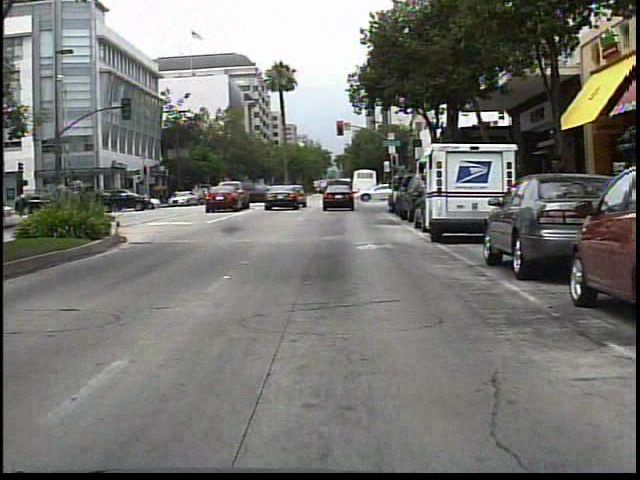person: (539, 149, 570, 240), (252, 181, 267, 206)
